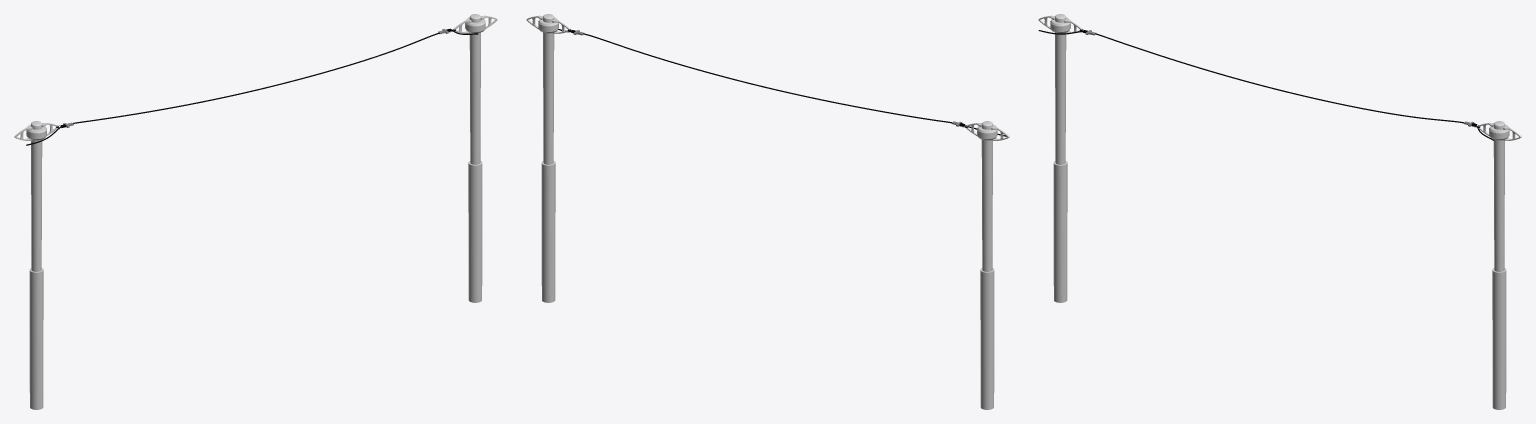
File: FO Cable Pole.fbx
3 views of the same model, side by side, from view 1: azimuth 30°, elevation 25°; view 2: azimuth 150°, elevation 25°; view 3: azimuth 330°, elevation 25° (orthographic).
Visible parts, largest first — view 1: Cylinder.001, Cylinder, NurbsPath; view 2: Cylinder, Cylinder.001, NurbsPath; view 3: Cylinder.001, Cylinder, NurbsPath.
Part boxes in pixels (x1,y1,x2,y2): Cylinder.001: [453, 14, 497, 302]; Cylinder: [14, 121, 58, 409]; NurbsPath: [26, 29, 478, 145]; Cylinder: [965, 121, 1009, 409]; Cylinder.001: [526, 14, 570, 302]; NurbsPath: [558, 29, 1006, 136]; Cylinder.001: [1477, 121, 1521, 409]; Cylinder: [1038, 14, 1082, 302]; NurbsPath: [1038, 30, 1494, 140].
Size of the model in its own units: 718 by 404 by 29.01.
Materials: 4 (1 with a texture image).
